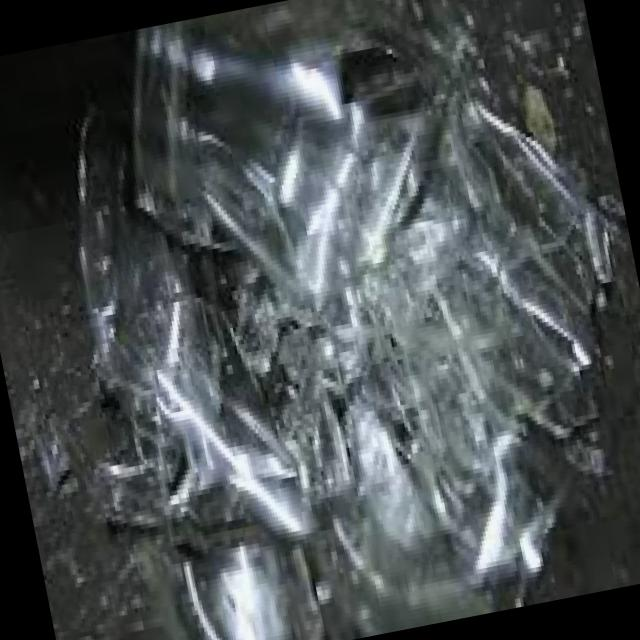PecahanKaca: (10, 0, 640, 640)
